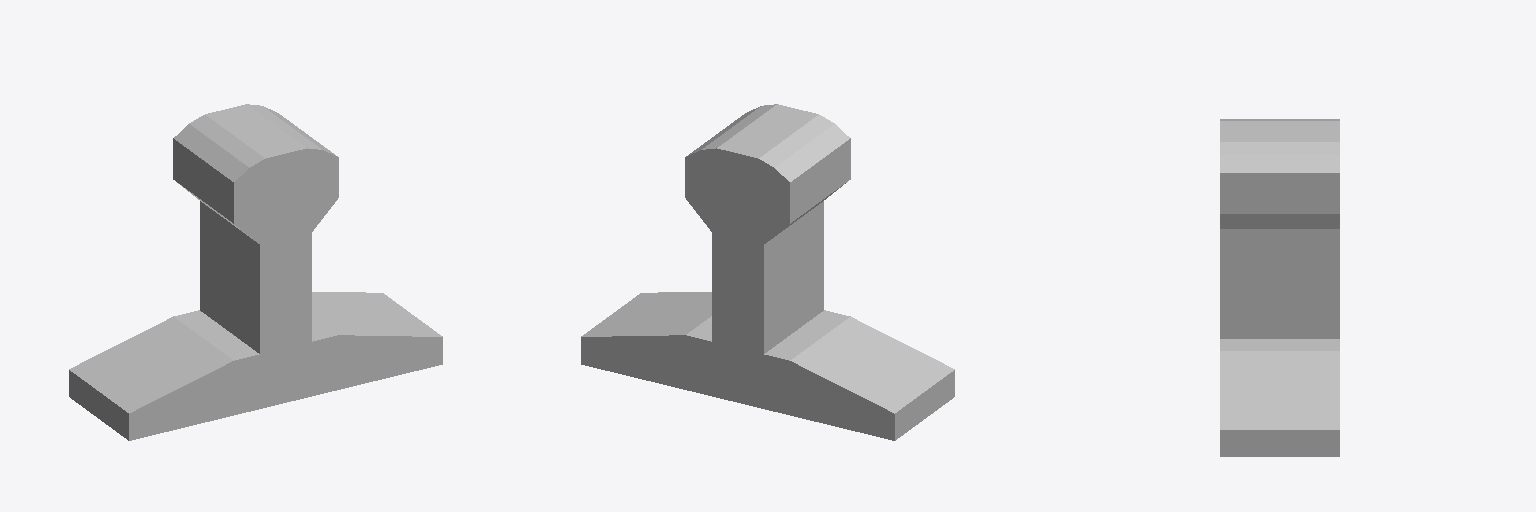
File: rail.obj
3 renders of one model, left to right at view 1: azimuth 30°, elevation 25°; view 2: azimuth 150°, elevation 25°; view 3: azimuth 270°, elevation 25°, orthographic.
Parts seen in each view (by area): view 1: cube; view 2: cube; view 3: cube.
Boxes of the visible parts, <box> form: cube: <box>69,104,442,440</box>; cube: <box>581,104,954,440</box>; cube: <box>1220,119,1339,456</box>.
Bounding box in the file's own units: 0.375 × 0.2844 × 0.125.